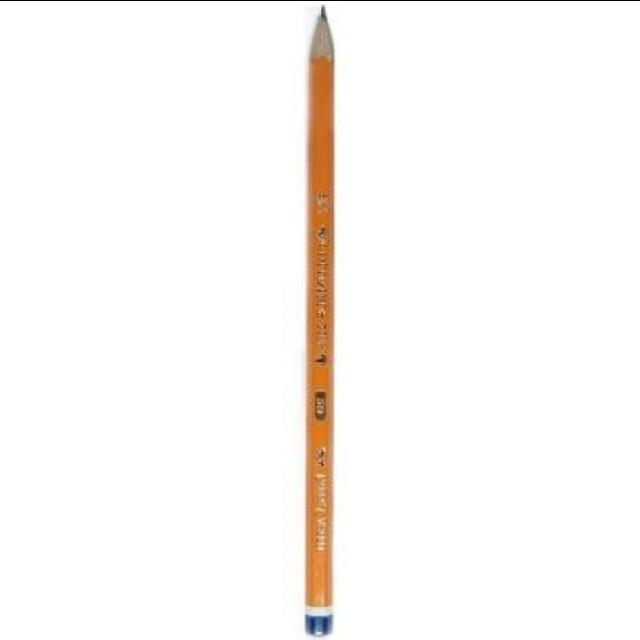Pencil: (302, 0, 342, 82)
